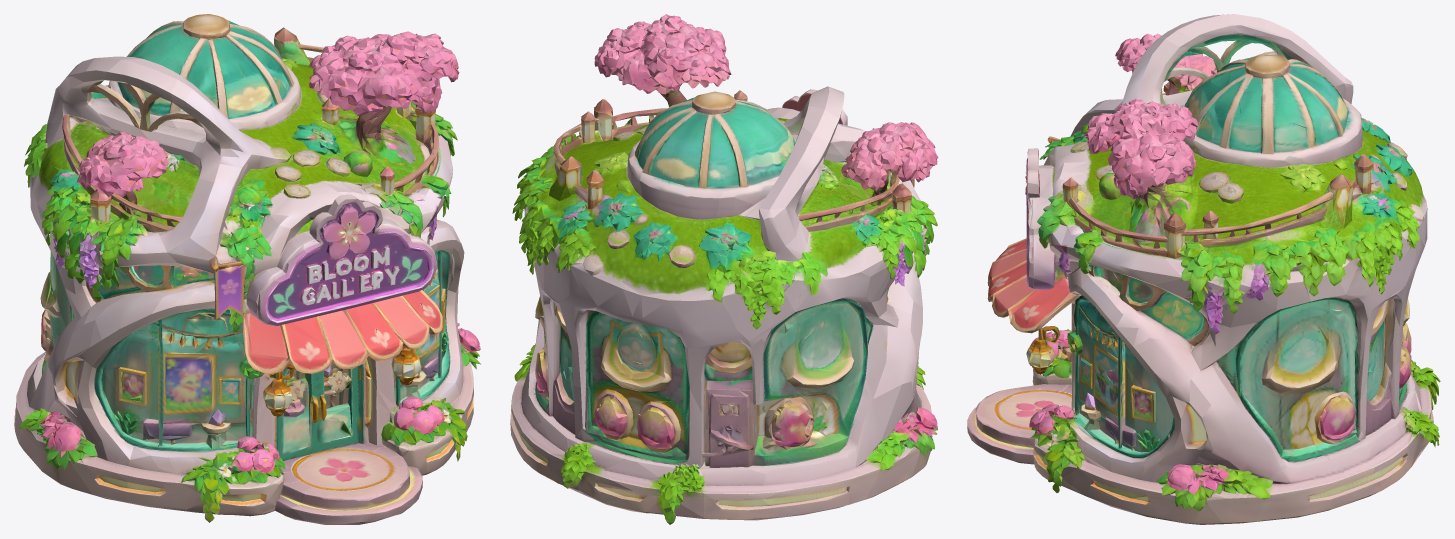
The model's file is city-bloom.glb.
3 views of the same model, side by side, from view 1: azimuth 30°, elevation 25°; view 2: azimuth 150°, elevation 25°; view 3: azimuth 270°, elevation 25° (orthographic). The views are drawn at different scales.
Size of the model in its own units: 1.87 by 1.66 by 1.9.
1 material, 1 textured.
